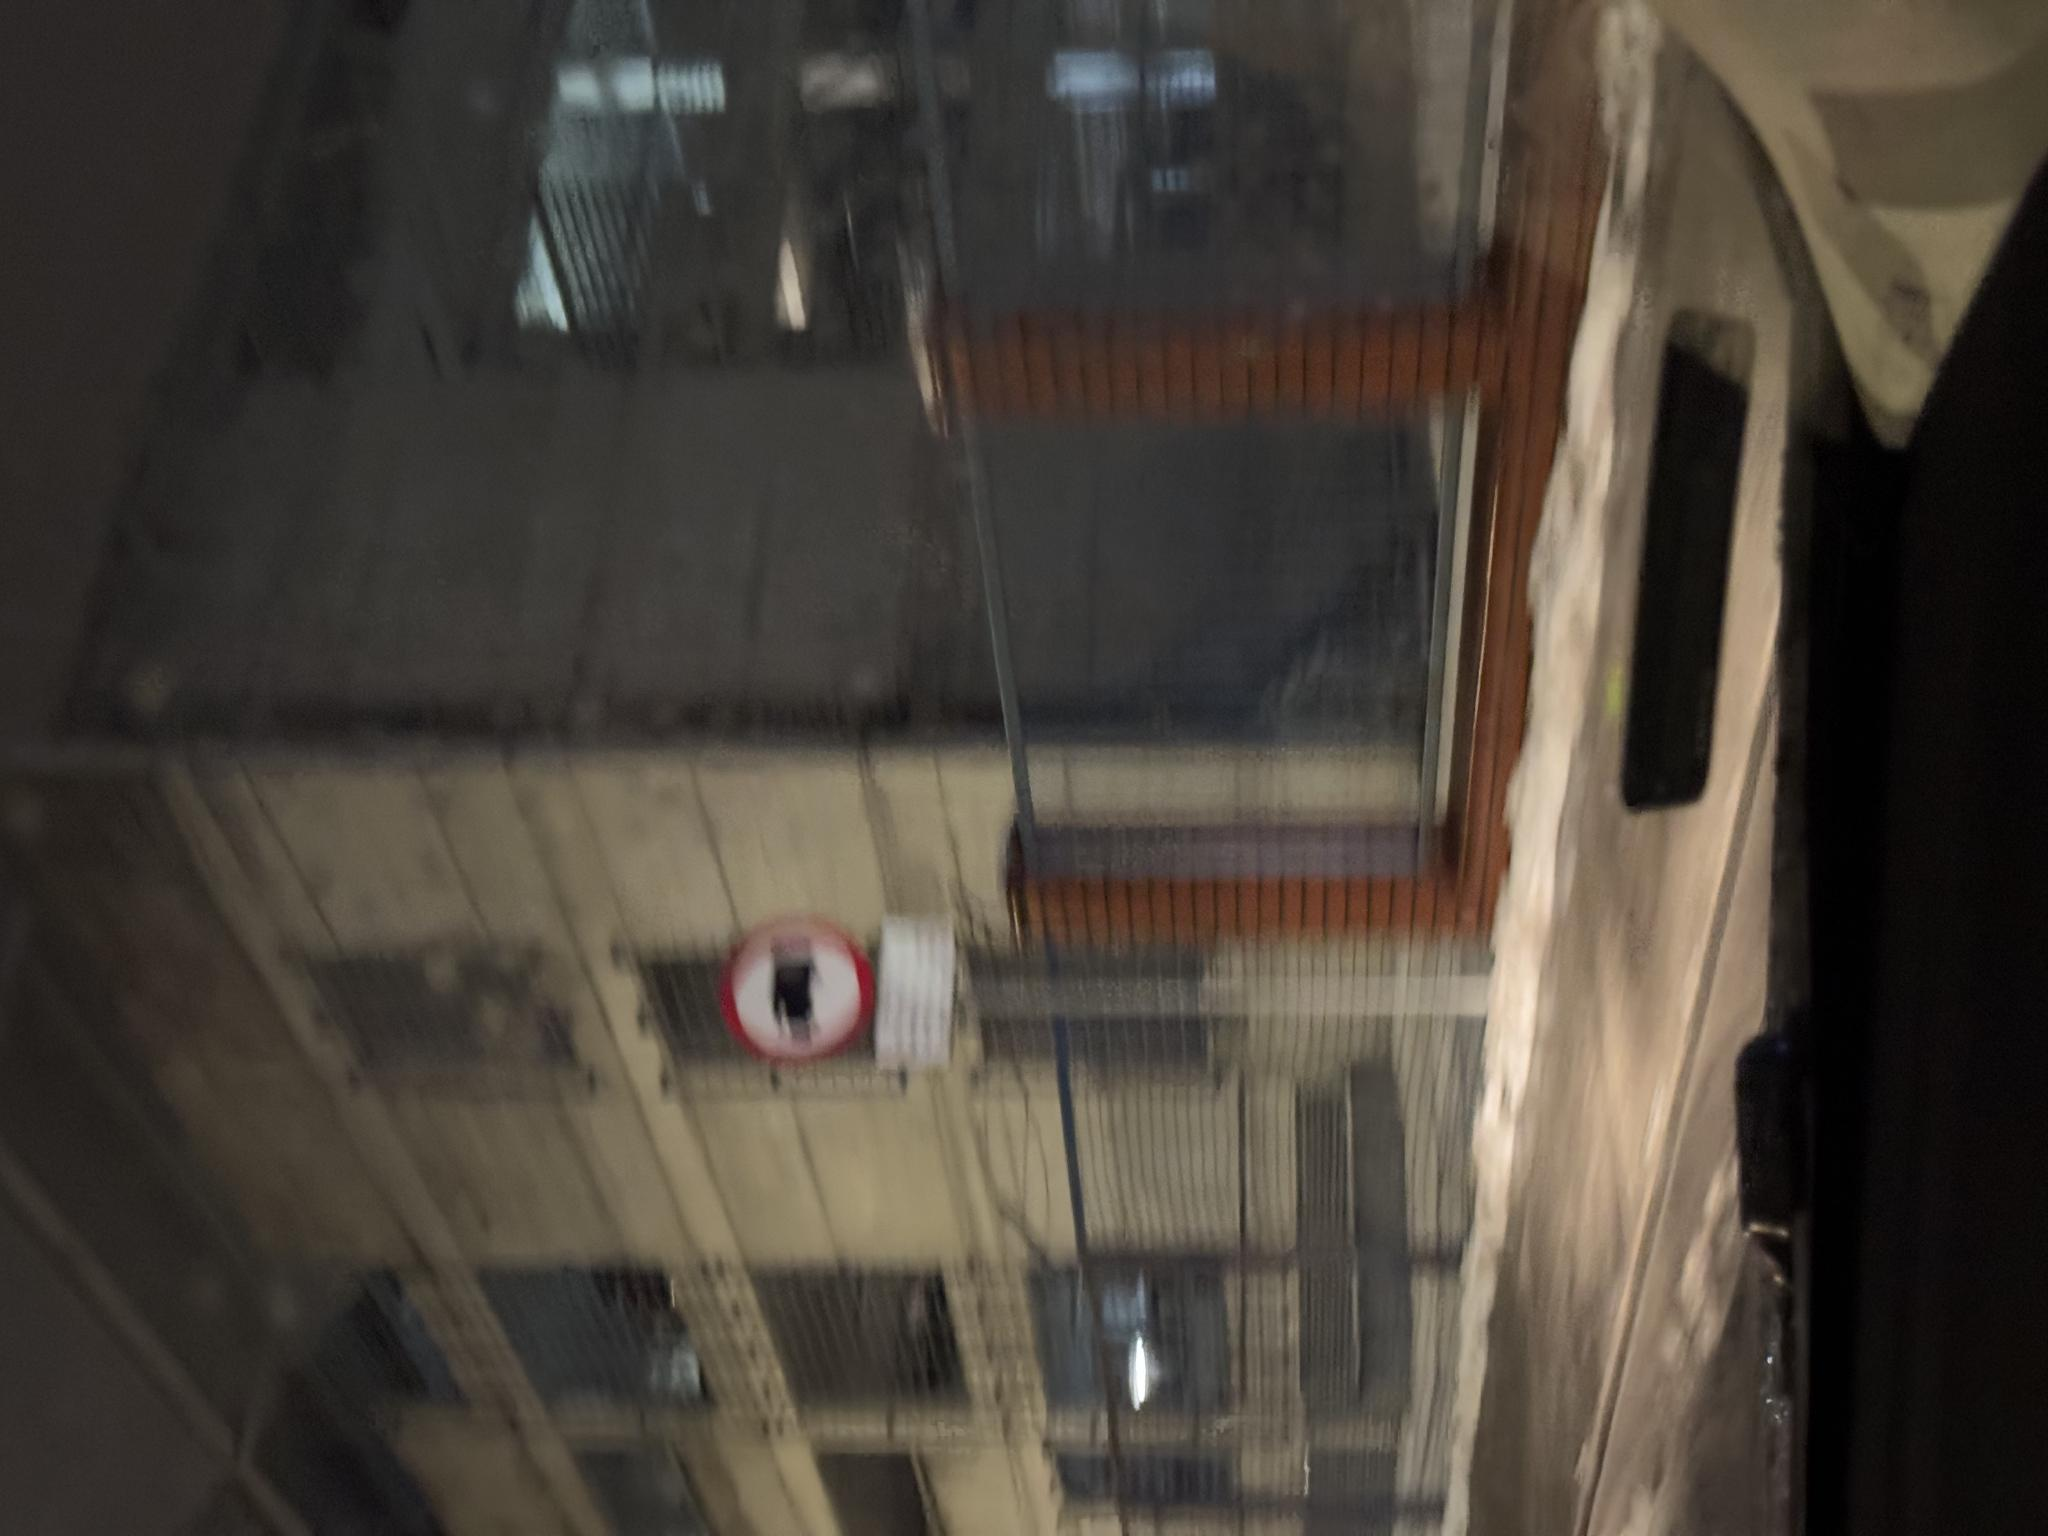other: (464, 878, 619, 958)
prohibitory: (468, 720, 624, 873)
